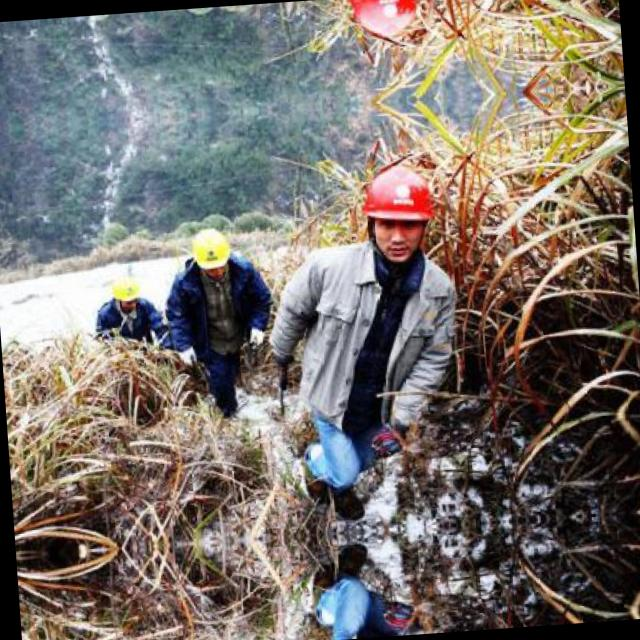helmet: (354, 160, 444, 264), (342, 0, 429, 42), (188, 223, 232, 278), (108, 272, 139, 306)
